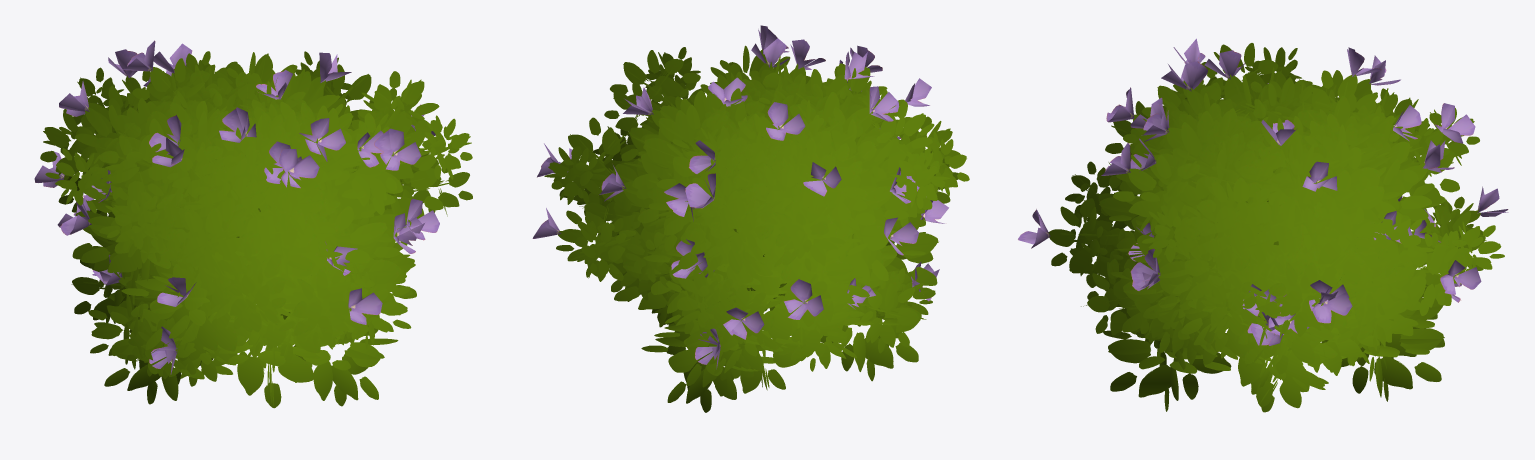
File: semak-1.glb
3 views of the same model, side by side, from view 1: azimuth 30°, elevation 25°; view 2: azimuth 150°, elevation 25°; view 3: azimuth 270°, elevation 25° (orthographic). The views are drawn at different scales.
Visible parts, largest first — view 1: Bush_Common_Flowers; view 2: Bush_Common_Flowers; view 3: Bush_Common_Flowers.
Part boxes in pixels (box(x1,y1,x2,y2)): Bush_Common_Flowers: box(34, 40, 472, 408); Bush_Common_Flowers: box(532, 25, 969, 412); Bush_Common_Flowers: box(1018, 38, 1508, 412).
Bounding box in the file's own units: 1.57 × 1.3 × 1.62.
Materials: 2 (2 with a texture image).
